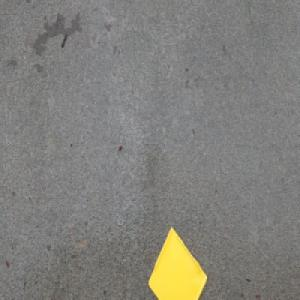PlasticPart: (146, 225, 208, 300)
